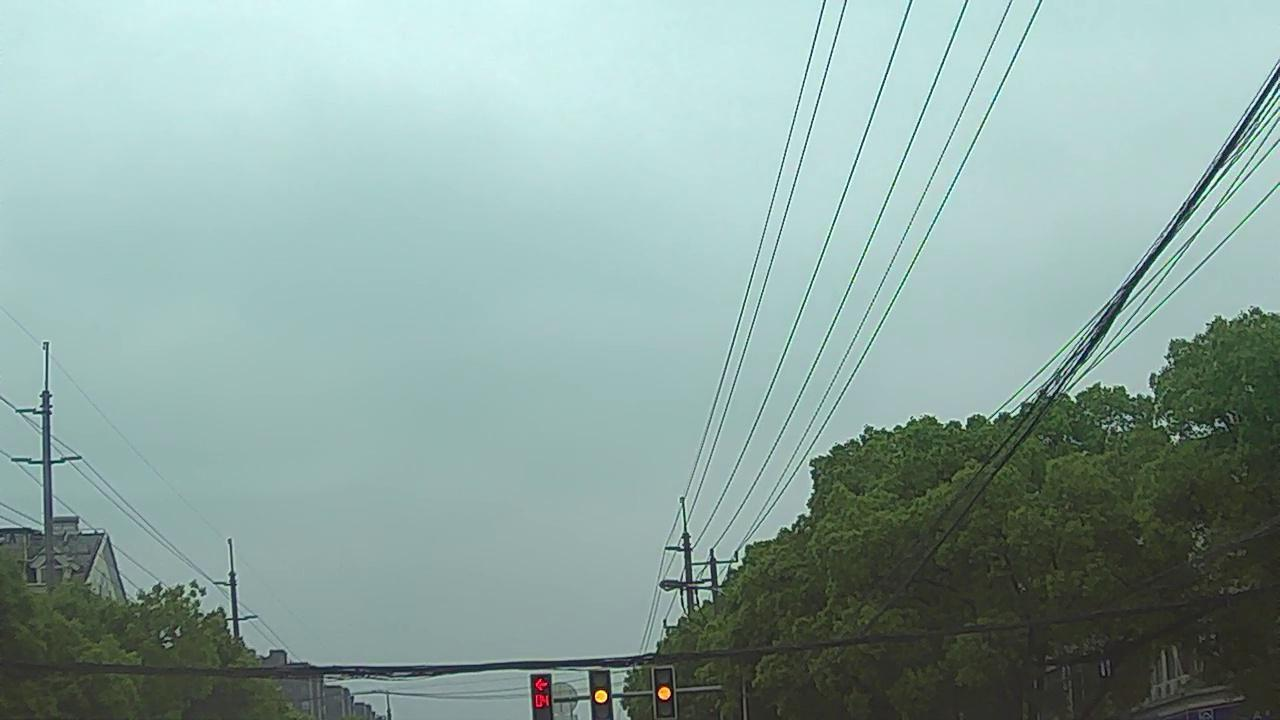traffic_light: (590, 668, 613, 719), (653, 670, 677, 717), (533, 674, 552, 717)
